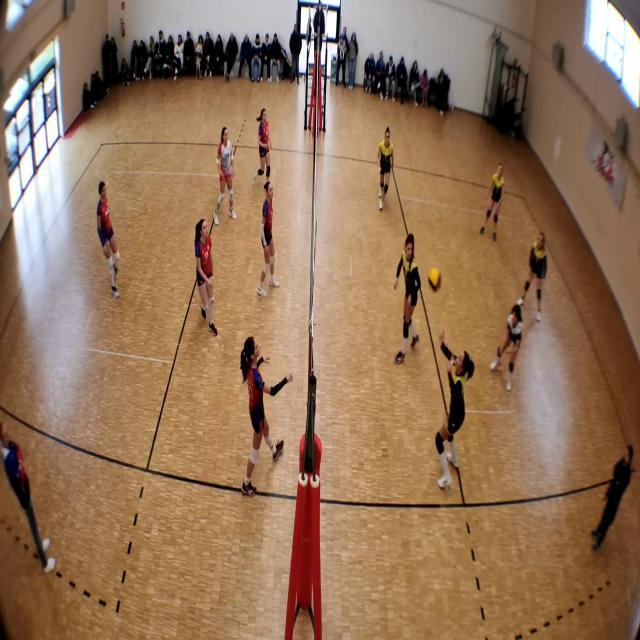volleyball: (428, 268, 442, 292)
